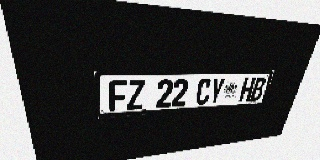2: (156, 79, 174, 108), (171, 79, 189, 107)
B: (249, 77, 267, 101)
C: (195, 78, 212, 105)
F: (108, 80, 127, 111)
H: (238, 77, 256, 102)
Y: (208, 78, 225, 104)
Z: (127, 80, 145, 110)
